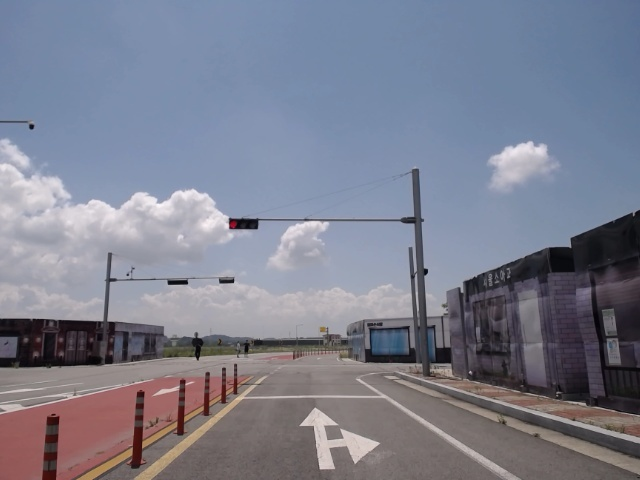red_3: (228, 218, 259, 230)
